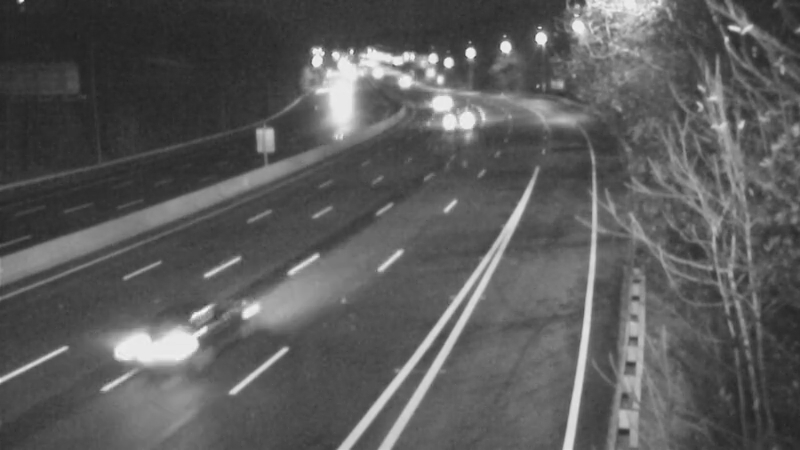vehicle: (112, 289, 222, 399), (376, 59, 426, 109), (416, 74, 466, 124), (434, 92, 484, 142), (311, 77, 361, 127)
